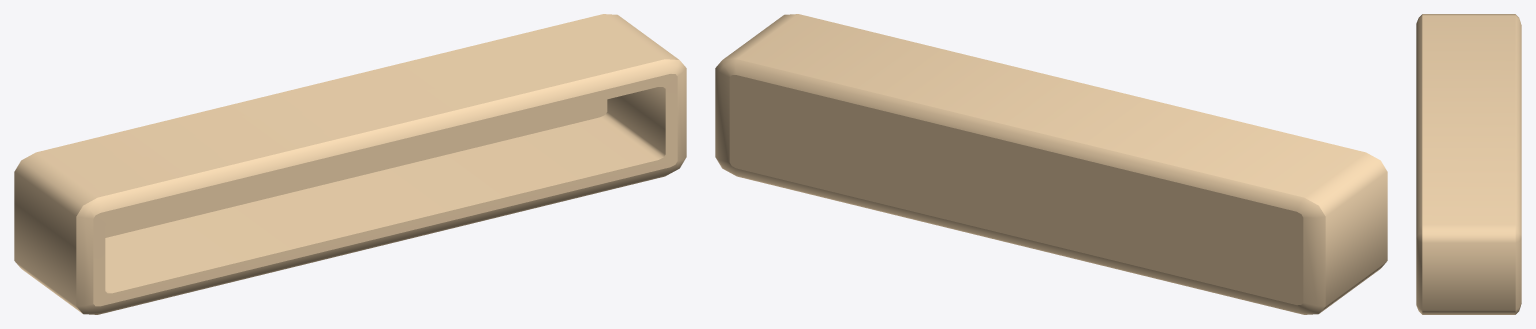
File: Furnit_B_18.glb
The picture shows the model from 3 angles, left to right: view 1: azimuth 30°, elevation 25°; view 2: azimuth 150°, elevation 25°; view 3: azimuth 270°, elevation 25°; orthographic projection. The views are drawn at different scales.
Visible parts, largest first — view 1: Furnit_B_18; view 2: Furnit_B_18; view 3: Furnit_B_18.
Part boxes in pixels (x1,y1,x2,y2): Furnit_B_18: (14, 14, 686, 314); Furnit_B_18: (715, 14, 1387, 314); Furnit_B_18: (1416, 14, 1521, 314).
Bounding box in the file's own units: 1.8 × 0.3308 × 0.3574.
Materials: 1 (1 with a texture image).
